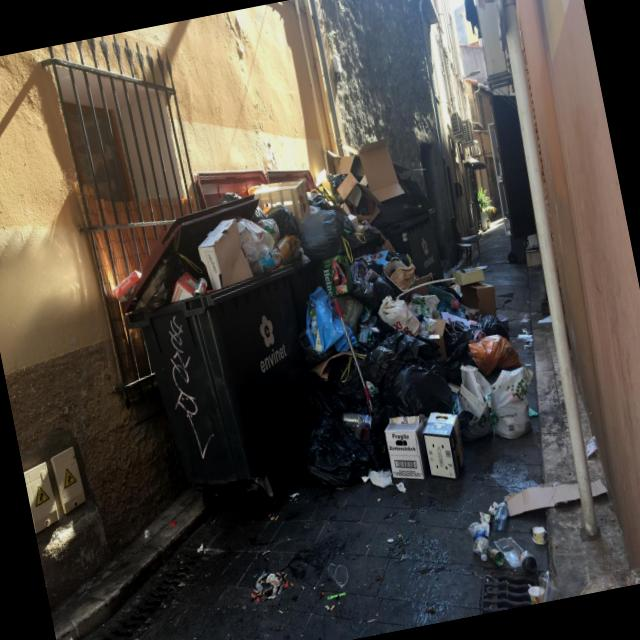garbage: (101, 120, 570, 540)
